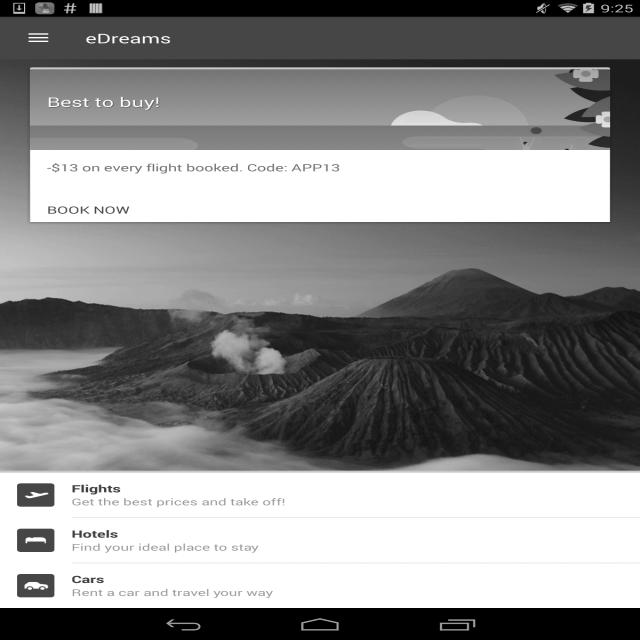ImageButton: (9, 17, 68, 59)
ImageView: (30, 69, 610, 150), (17, 483, 54, 507), (17, 529, 54, 552), (17, 574, 54, 597)
TextView: (47, 161, 340, 174), (72, 495, 286, 508), (72, 586, 274, 599), (72, 541, 259, 553), (47, 92, 160, 110), (86, 29, 172, 47), (47, 203, 130, 217), (71, 527, 118, 541), (72, 482, 120, 495), (71, 572, 104, 586)
